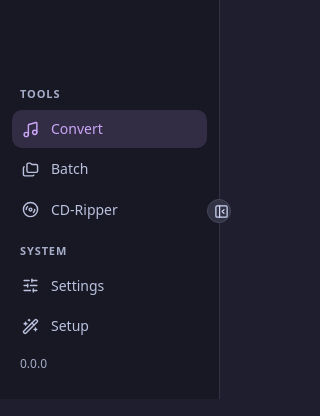
Scenario: Sidebar › nav_switches_page
Click the button "CD-Ripper". click: [110, 210]
box: [12,190,207,229]
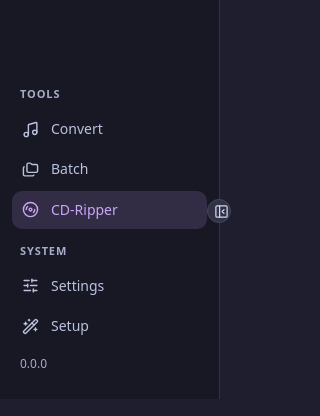
Expected: the button "CD-Ripper" is marked as current, [12,190,207,229]
